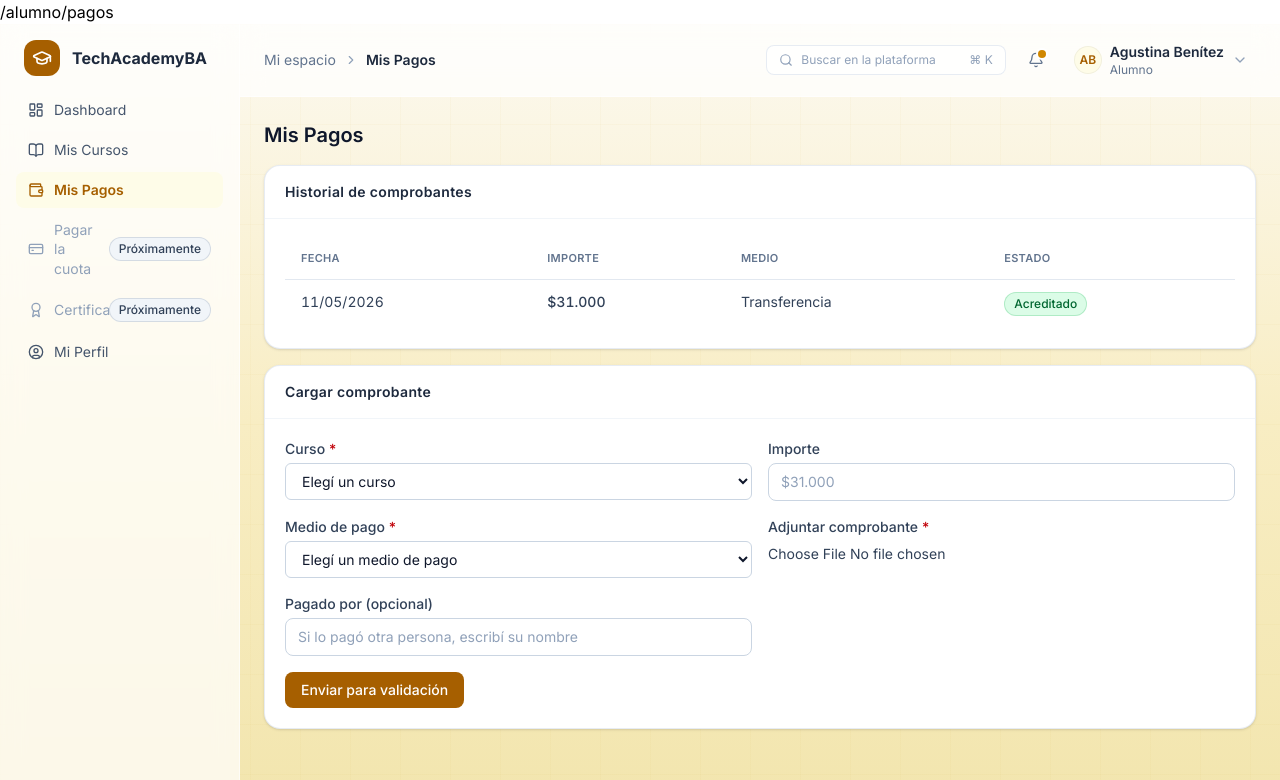
Scenario: carga de comprobante › exige el curso, el importe, el medio y el archivo antes de confirmar
This screenshot has width=1280, height=780.
Expected: the heading "Mis Pagos" is shown, top-left (264, 123), bottom-right (364, 147)
Expected: the text "11/05/2026" is shown, top-left (285, 279), bottom-right (531, 328)
Click the button "Enviar para validación" at (375, 690), box top-left (285, 672), bottom-right (464, 708)
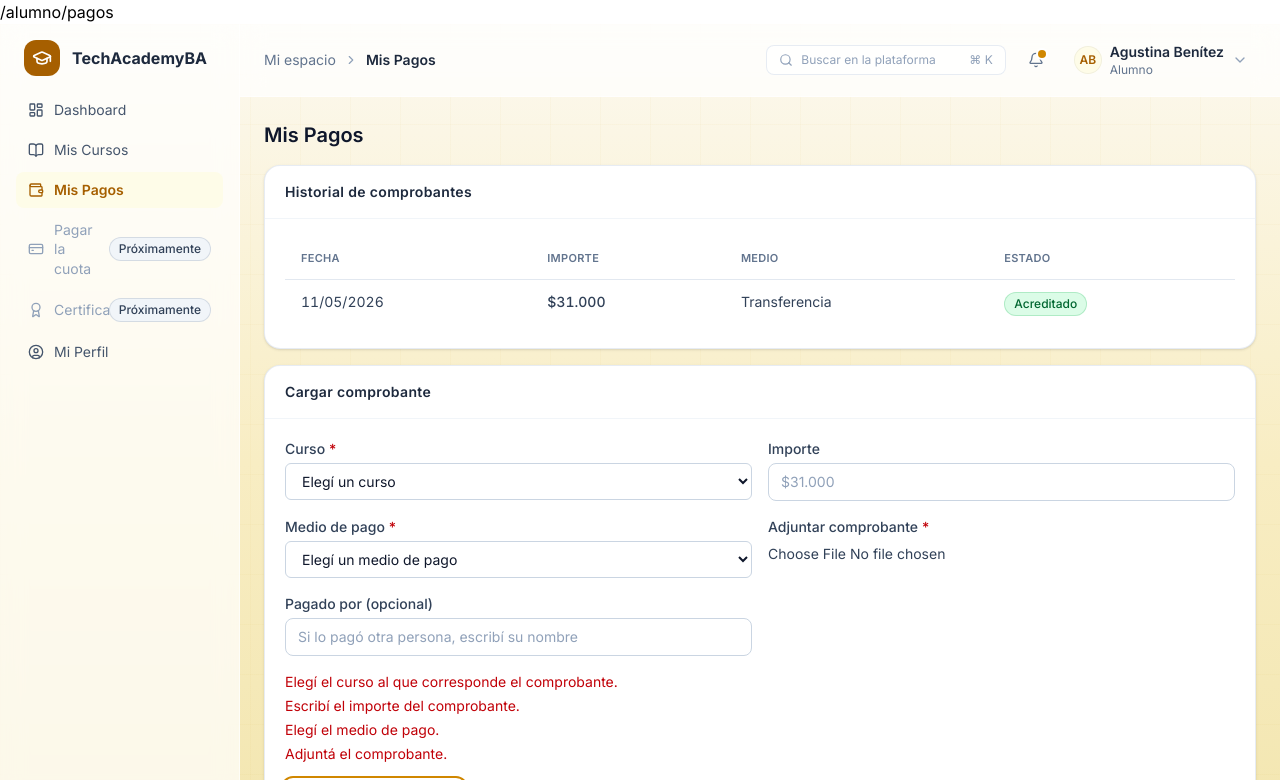
Now the message shows "Elegí el curso al que corresponde el comprobante.", box top-left (285, 673), bottom-right (618, 690)
Now the message shows "Escribí el importe del comprobante.", box top-left (285, 697), bottom-right (520, 714)
Now the message shows "Elegí el medio de pago.", box top-left (285, 721), bottom-right (439, 738)
